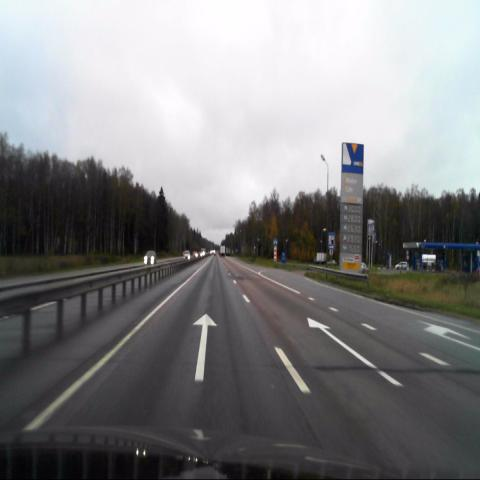7_3: (328, 232, 335, 249)
